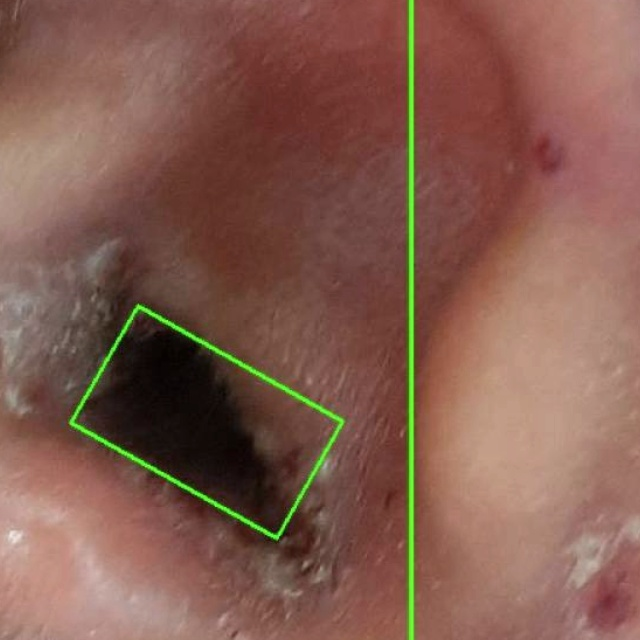Contact Dermatitis: (411, 0, 639, 639), (71, 306, 342, 539)
